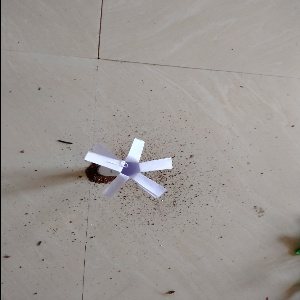weed: (82, 137, 173, 203)
